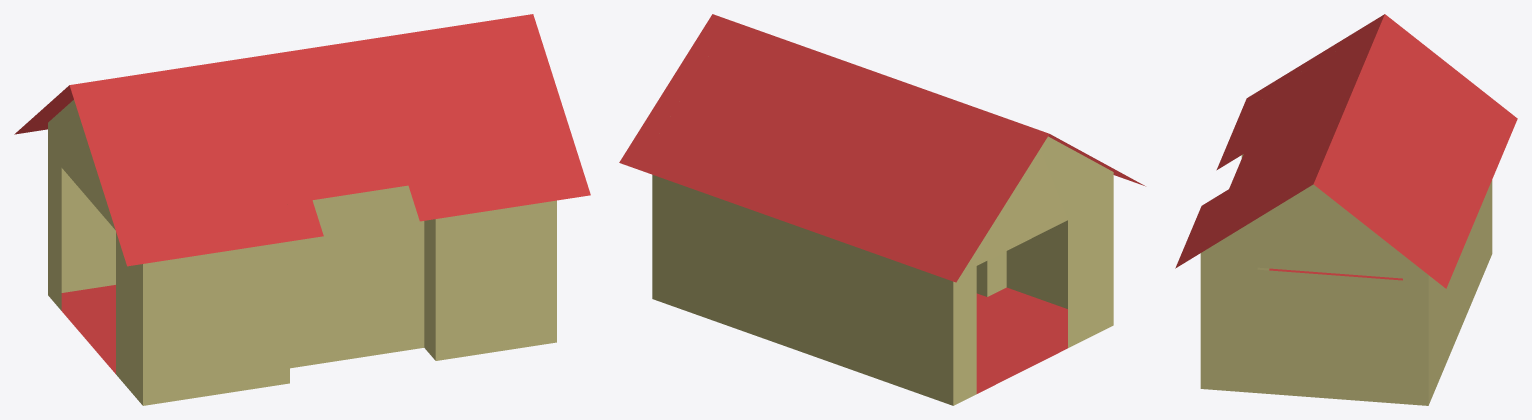
3 renders of one model, left to right at view 1: azimuth 30°, elevation 25°; view 2: azimuth 150°, elevation 25°; view 3: azimuth 270°, elevation 25°, orthographic. The views are drawn at different scales.
Bounding box in the file's own units: 20.54 × 15.6 × 11.17.
